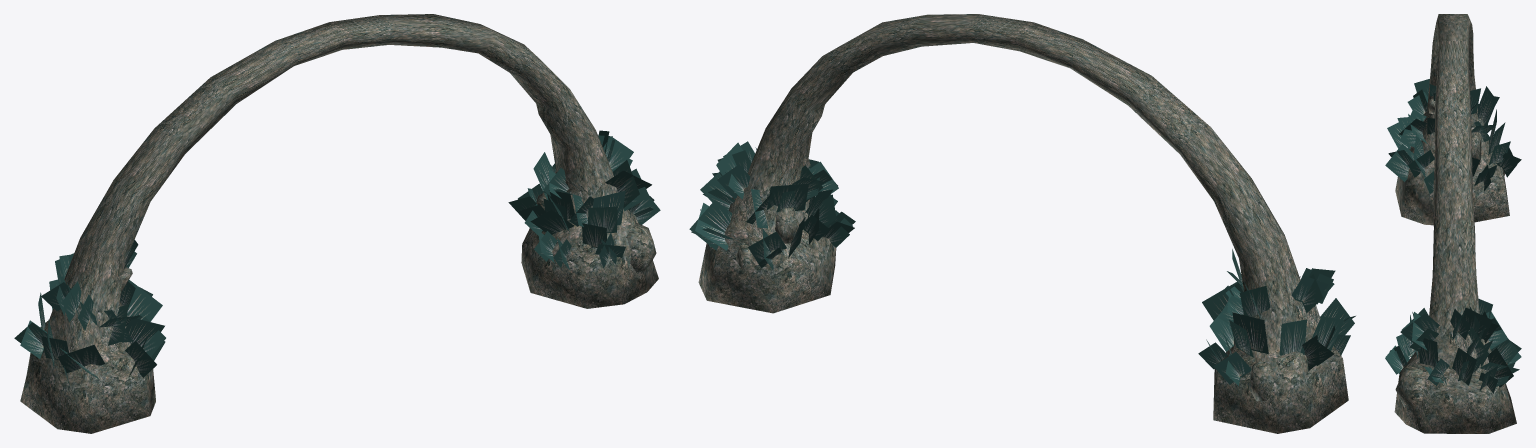
File: rock_crystl_arch_sm_l2.fbx
The picture shows the model from 3 angles, left to right: view 1: azimuth 30°, elevation 25°; view 2: azimuth 150°, elevation 25°; view 3: azimuth 270°, elevation 25°; orthographic projection. The views are drawn at different scales.
Visible parts, largest first — view 1: mesh_node; view 2: mesh_node; view 3: mesh_node.
Boxes of the visible parts, <box> form: mesh_node: <box>14,14,660,433</box>; mesh_node: <box>689,14,1355,433</box>; mesh_node: <box>1385,14,1521,433</box>.
Size of the model in its own units: 55.7 by 26.67 by 12.41.
